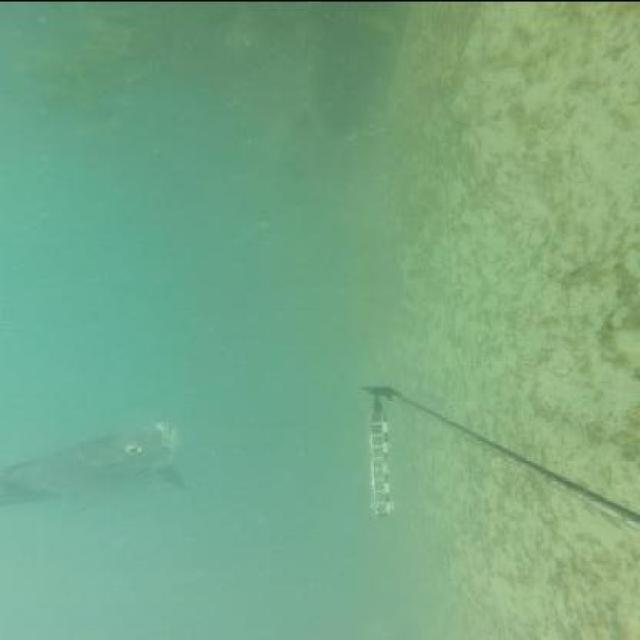acanthopagrus_palmaris: (0, 416, 192, 516)
